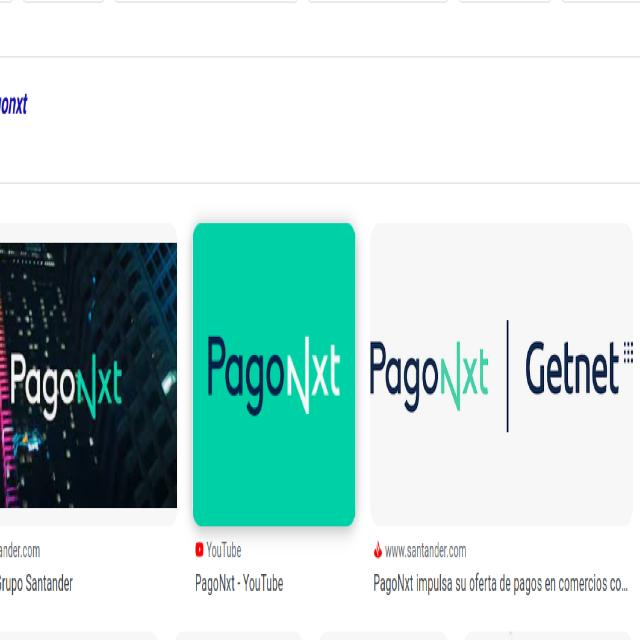getnet: (526, 339, 632, 395)
pago_nxt: (208, 334, 340, 417), (370, 341, 488, 414), (10, 352, 121, 421)
santander: (374, 540, 382, 558)
